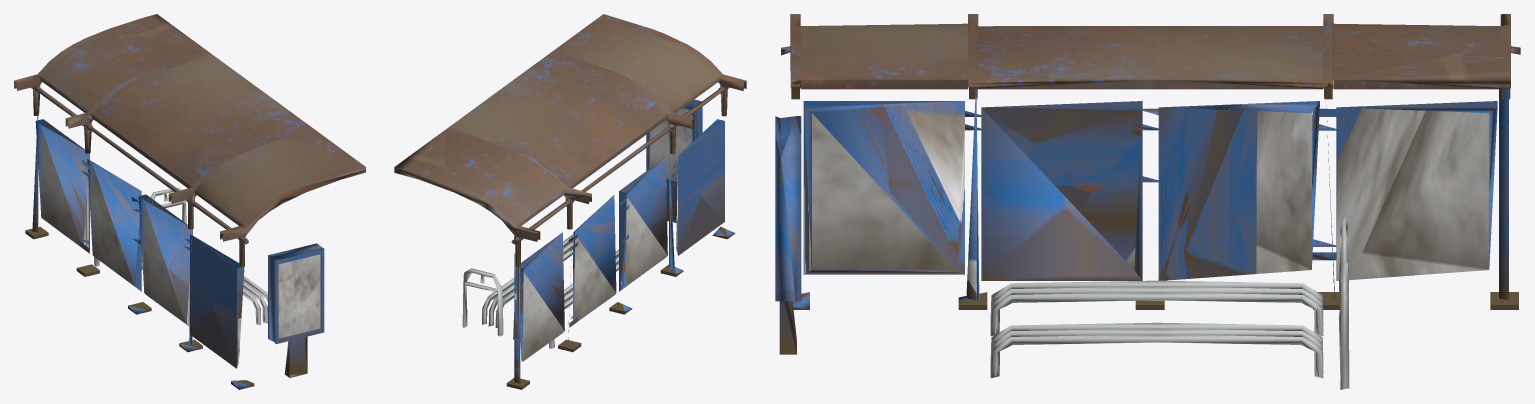
The model's file is tram-xe-buyt.glb.
The picture shows the model from 3 angles, left to right: view 1: azimuth 30°, elevation 25°; view 2: azimuth 150°, elevation 25°; view 3: azimuth 270°, elevation 25°; orthographic projection. The views are drawn at different scales.
Parts seen in each view (by area): view 1: Circle.007_Roof_0, Cube.002_Walls_0, Plane.005_Ads_0, Plane.009_Things_0, Cube.006_Seats_0; view 2: Circle.007_Roof_0, Cube.002_Walls_0, Plane.005_Ads_0, Cube.006_Seats_0, Plane.009_Things_0; view 3: Cube.002_Walls_0, Circle.007_Roof_0, Cube.006_Seats_0, Plane.005_Ads_0, Plane.009_Things_0.
Part boxes in pixels (bbox=[...]): Circle.007_Roof_0: bbox=[14, 14, 365, 266]; Cube.002_Walls_0: bbox=[32, 106, 244, 368]; Plane.005_Ads_0: bbox=[268, 243, 324, 377]; Plane.009_Things_0: bbox=[25, 159, 254, 389]; Cube.006_Seats_0: bbox=[94, 187, 267, 325]; Circle.007_Roof_0: bbox=[394, 14, 746, 267]; Cube.002_Walls_0: bbox=[514, 119, 724, 383]; Plane.005_Ads_0: bbox=[646, 99, 702, 222]; Cube.006_Seats_0: bbox=[462, 234, 618, 348]; Plane.009_Things_0: bbox=[506, 158, 735, 389]; Cube.002_Walls_0: bbox=[803, 86, 1508, 300]; Circle.007_Roof_0: bbox=[781, 14, 1520, 99]; Cube.006_Seats_0: bbox=[990, 218, 1349, 389]; Plane.005_Ads_0: bbox=[775, 116, 801, 354]; Plane.009_Things_0: bbox=[792, 108, 1518, 309].
Bounding box in the file's own units: 0.3788 × 0.4797 × 0.9915.
Materials: 5 (4 with a texture image).
